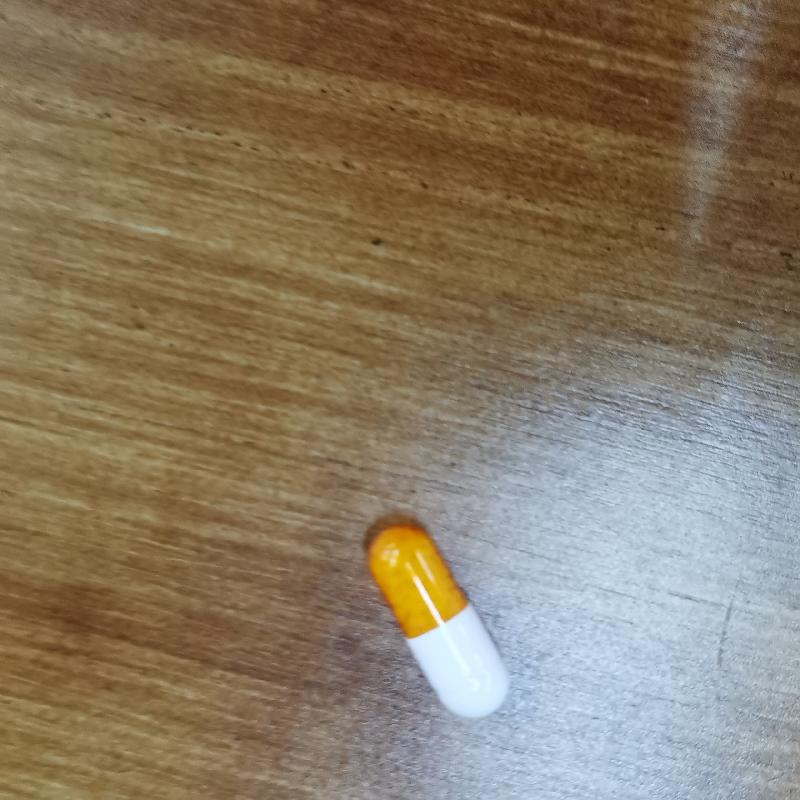pills: (354, 514, 527, 740)
